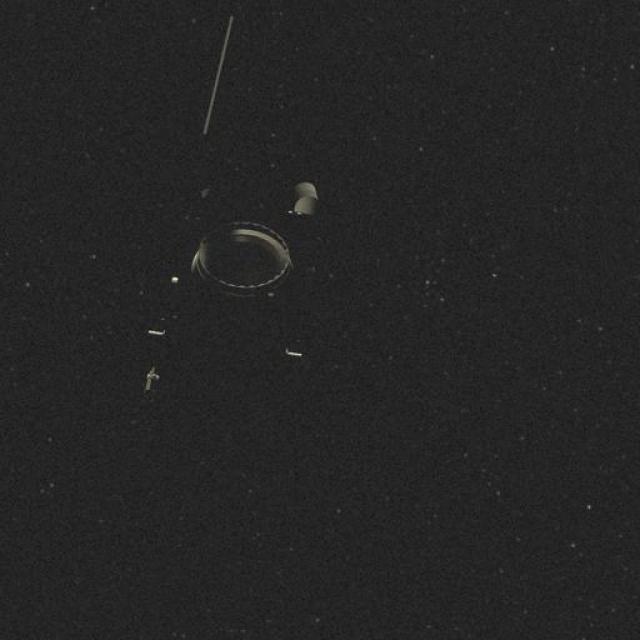proba_3_csc: (115, 11, 371, 412)
